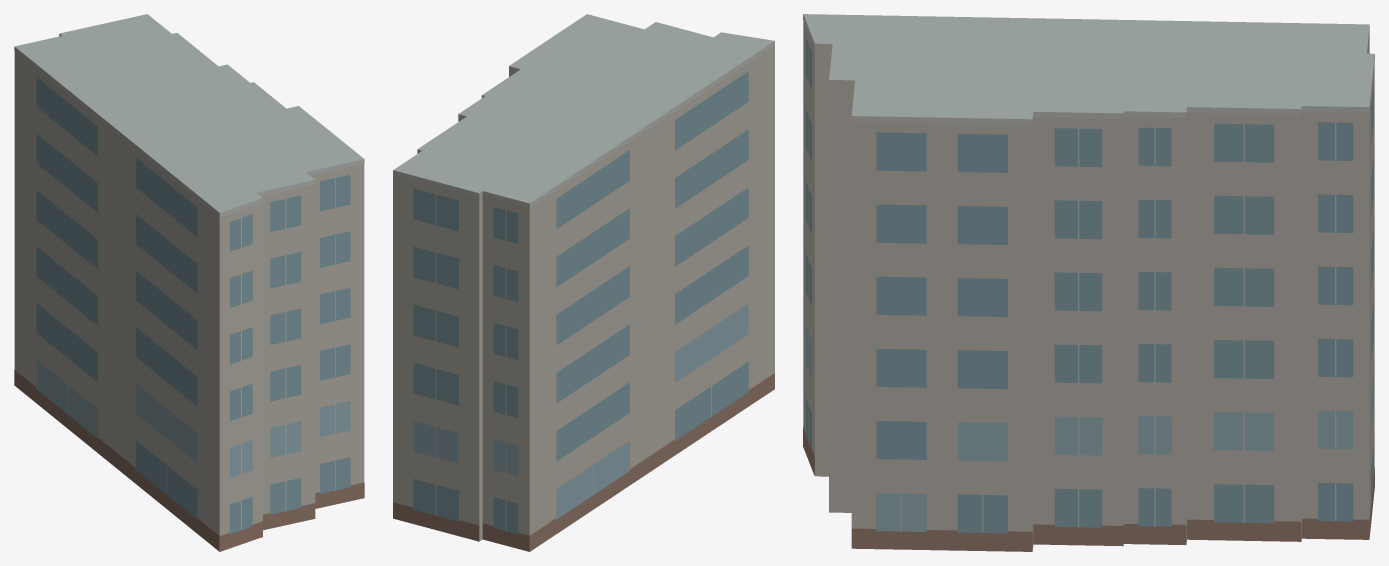
Rendered from survey-upis-32705487.glb.
3 renders of one model, left to right at view 1: azimuth 30°, elevation 25°; view 2: azimuth 150°, elevation 25°; view 3: azimuth 270°, elevation 25°, orthographic. The views are drawn at different scales.
Visible parts, largest first — view 1: survey-upis-32705487.tmp; view 2: survey-upis-32705487.tmp; view 3: survey-upis-32705487.tmp.
Part boxes in pixels (left/top/right/bottom): survey-upis-32705487.tmp: left=14, top=14, right=364, bottom=551; survey-upis-32705487.tmp: left=393, top=14, right=774, bottom=551; survey-upis-32705487.tmp: left=803, top=14, right=1374, bottom=551.
Bounding box in the file's own units: 9.61 × 18.4 × 22.04.
